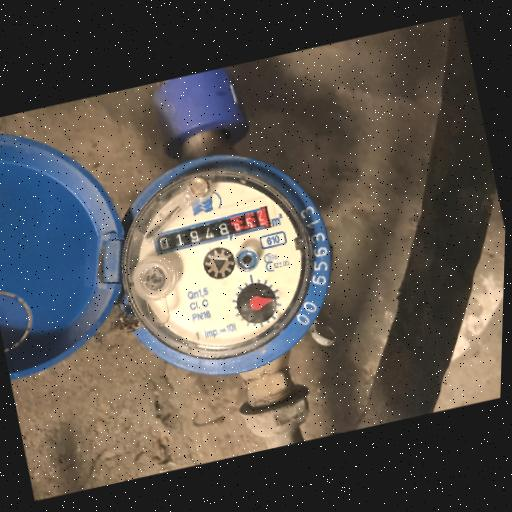0: (156, 233, 175, 252)
1: (171, 229, 189, 248)
2: (256, 208, 272, 227)
4: (199, 222, 219, 241)
5: (243, 211, 260, 231)
6: (228, 215, 247, 235)
8: (215, 218, 233, 238)
9: (185, 225, 204, 245)
border_water_meter_number: (150, 204, 274, 257)
